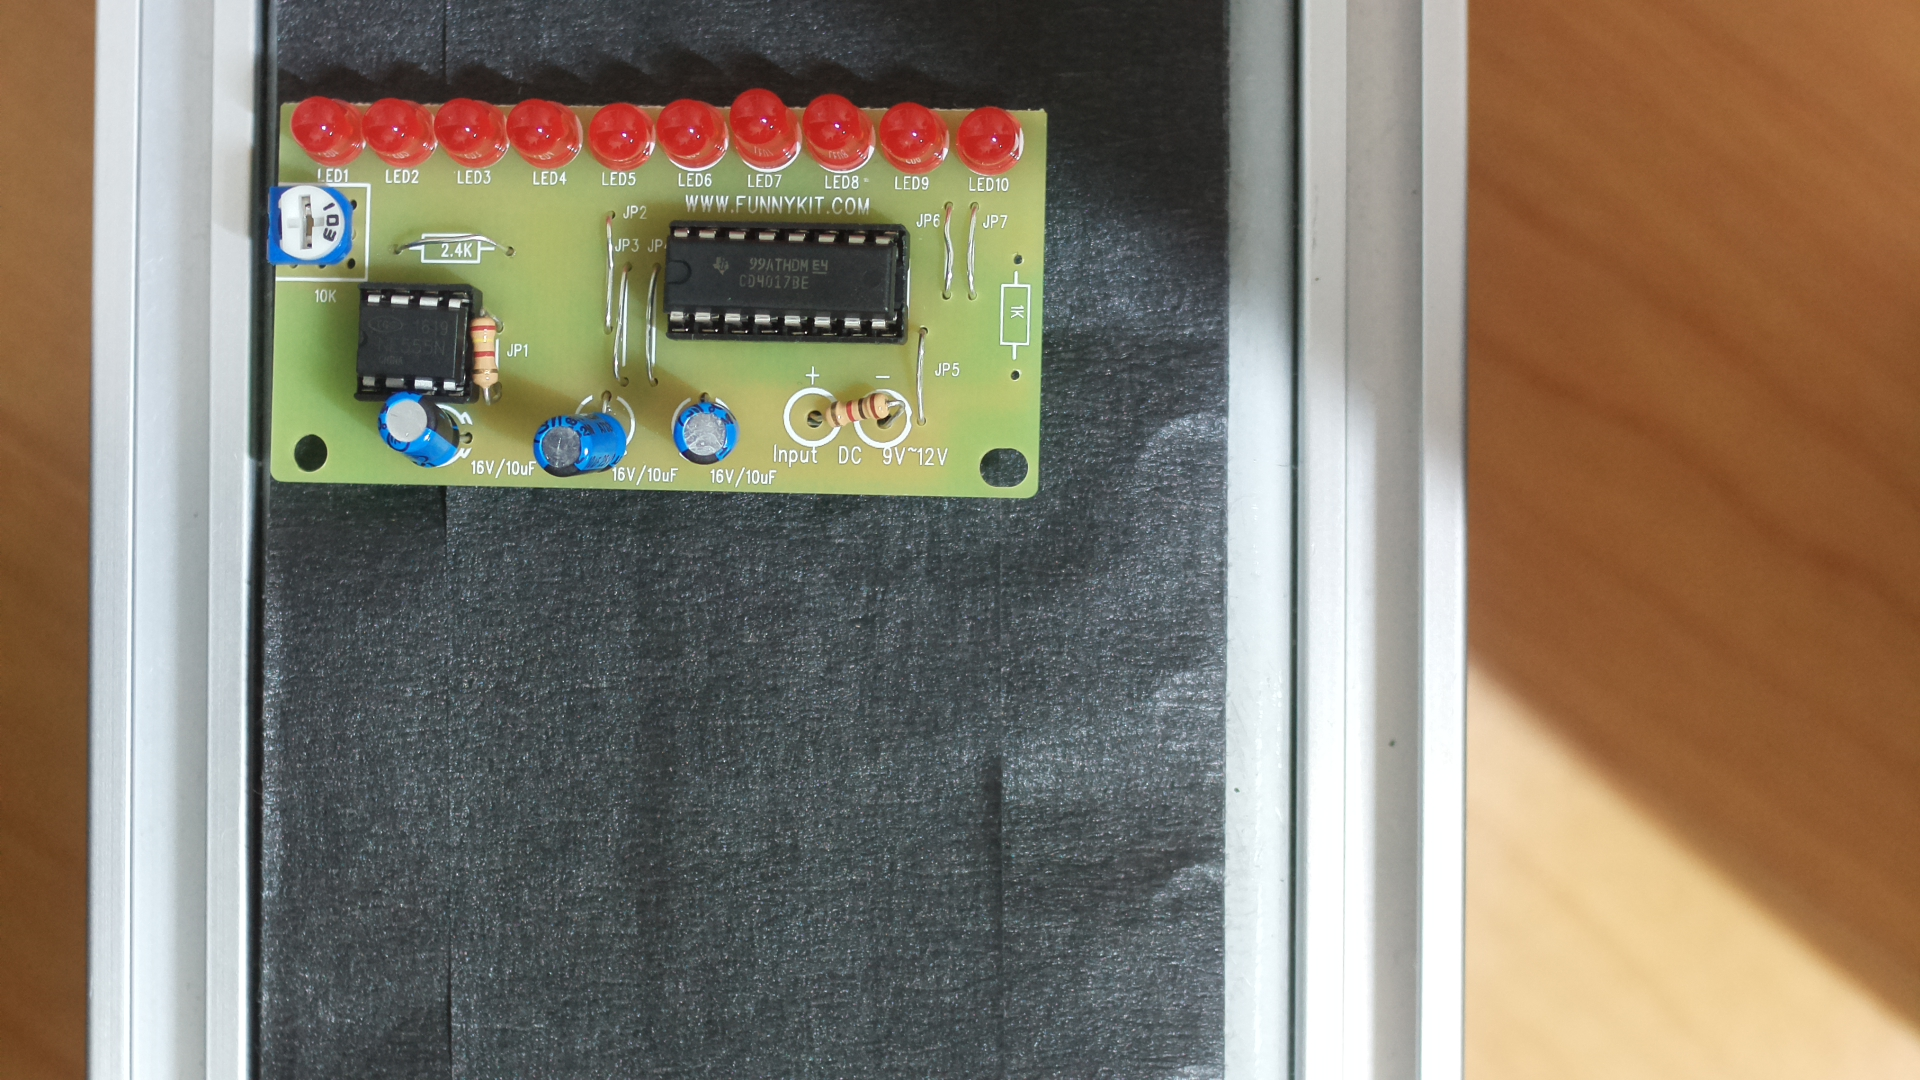B_Misordered: (253, 69, 1062, 537)
